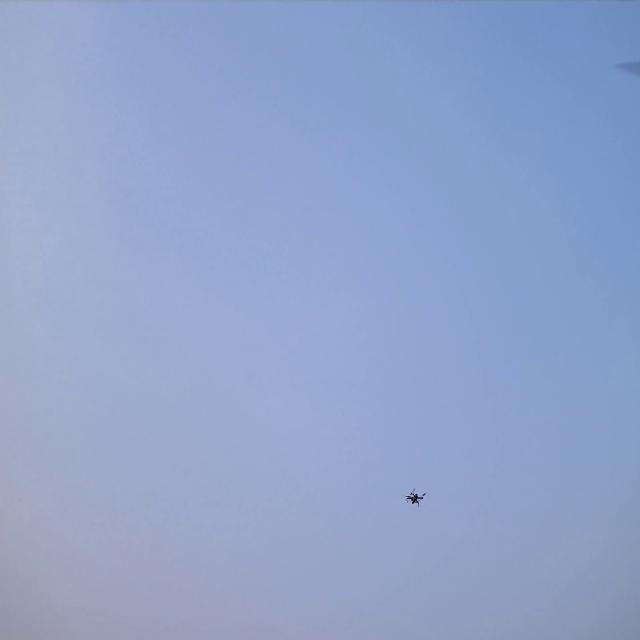UAV: (406, 491, 424, 504)
